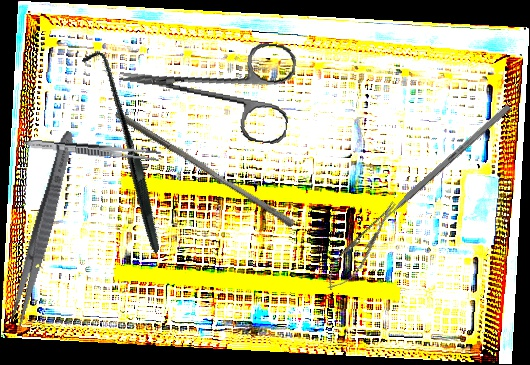Dressing Forceps: (5, 128, 80, 333), (24, 137, 163, 162)
Hook Surgical: (21, 46, 224, 255)
Iris Scissors: (112, 23, 299, 146)
Needle Holder: (319, 195, 405, 297)
Pusher: (110, 109, 299, 229), (366, 104, 512, 235)
